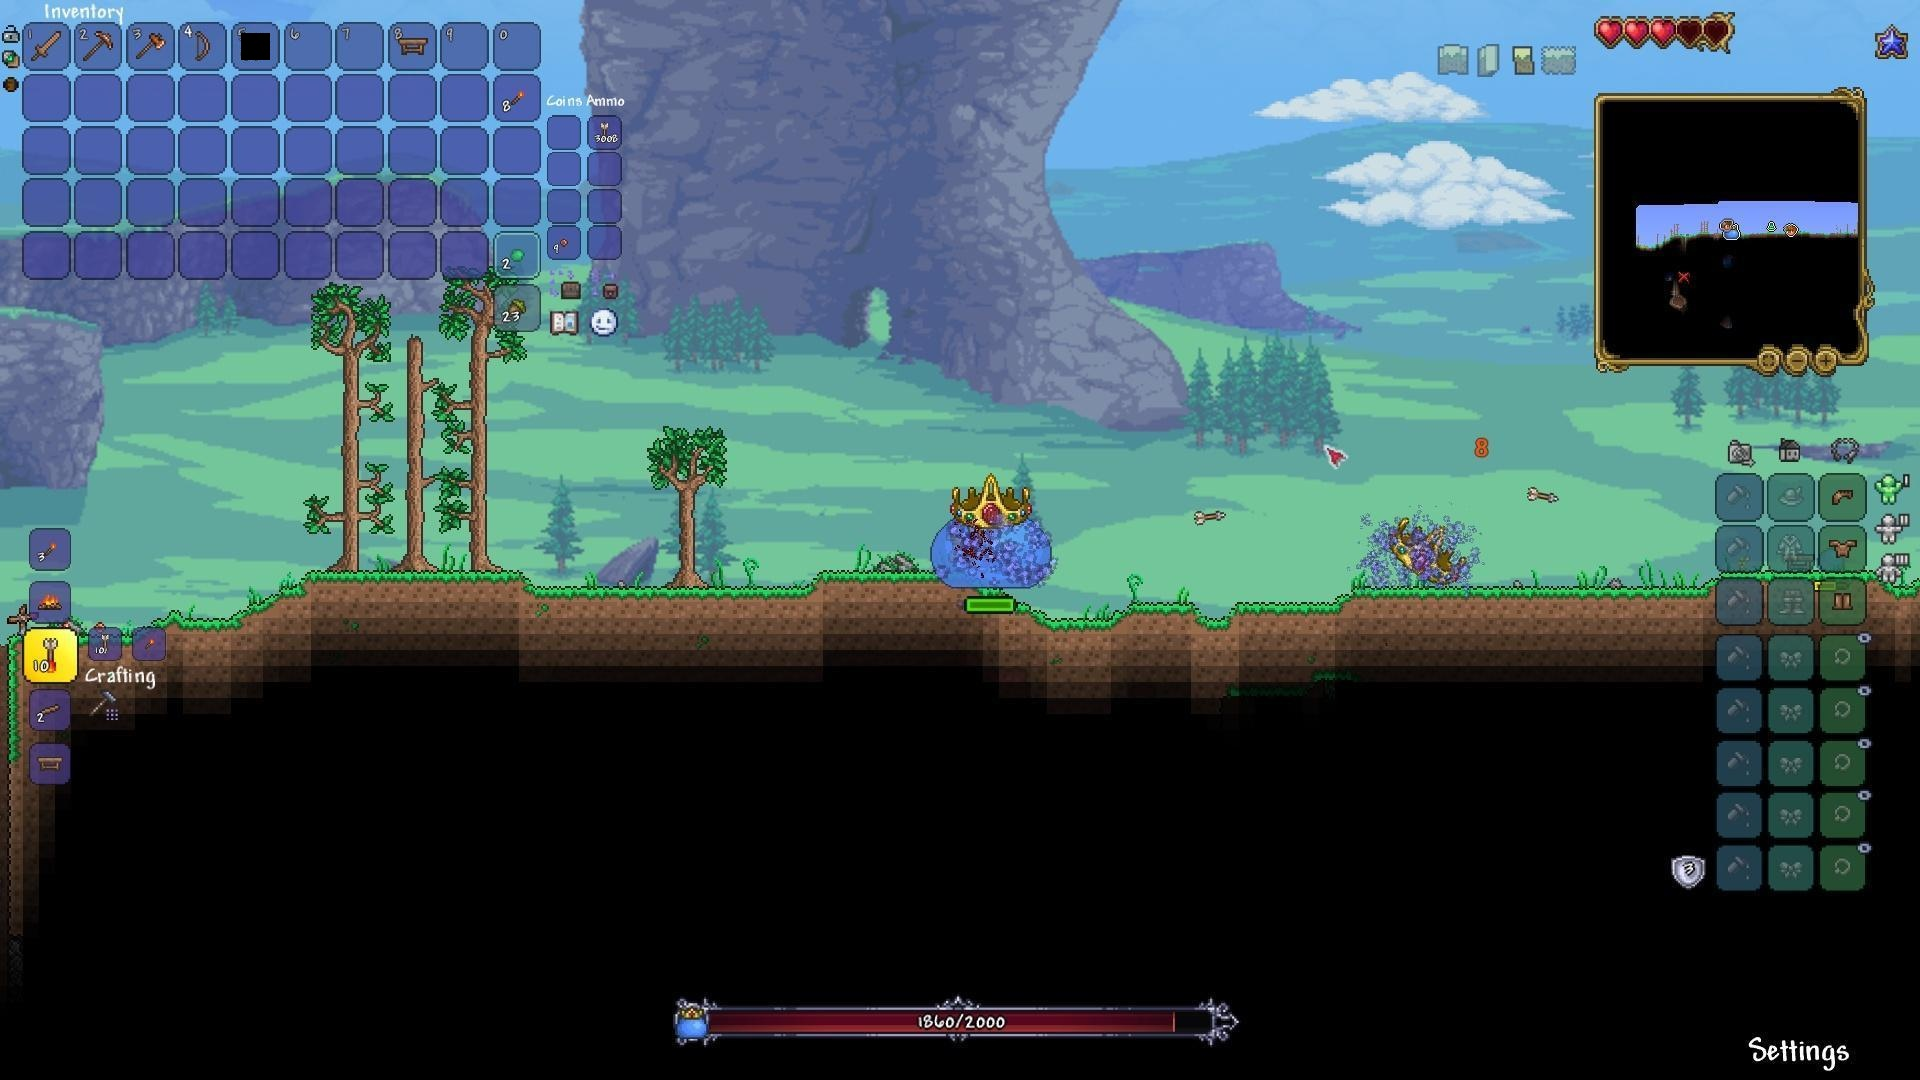breastplate: (1829, 537, 1859, 559)
helmet: (1828, 483, 1858, 510)
legs: (1832, 588, 1855, 616)
workbench: (393, 36, 430, 61), (36, 752, 66, 775)
